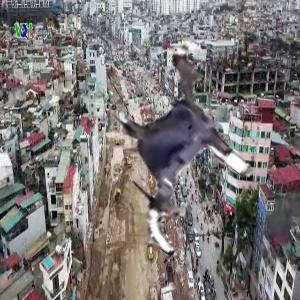drone: (75, 42, 284, 251)
